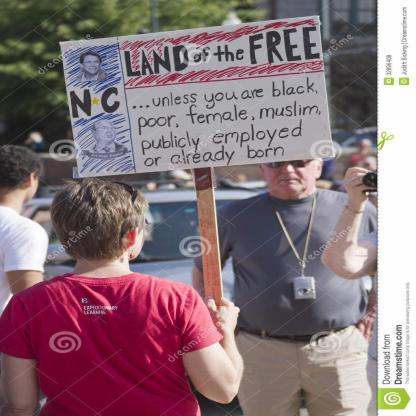face: (266, 147, 317, 190), (95, 125, 117, 142), (84, 59, 101, 74)
